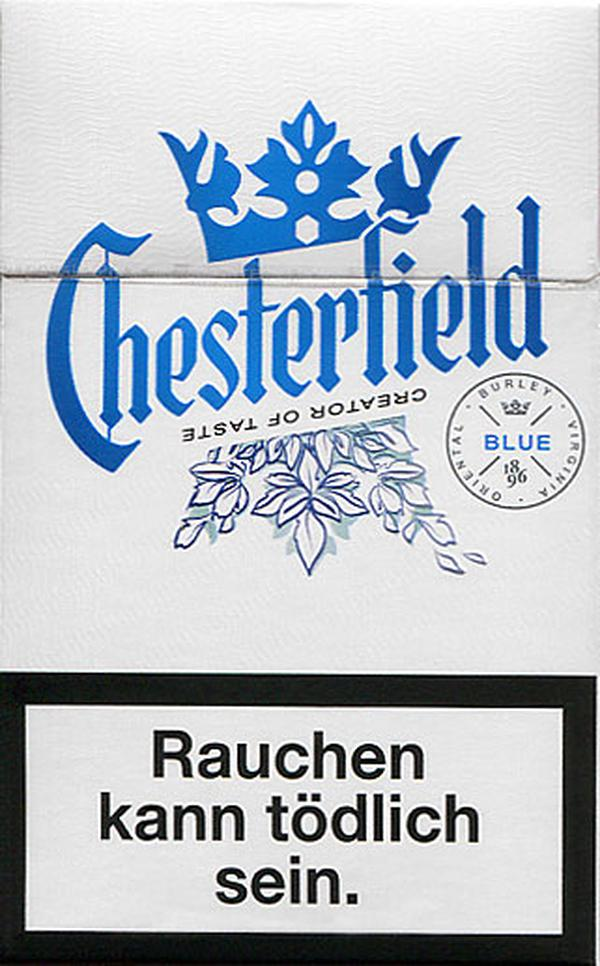chesterfield_blue: (1, 3, 595, 963)
